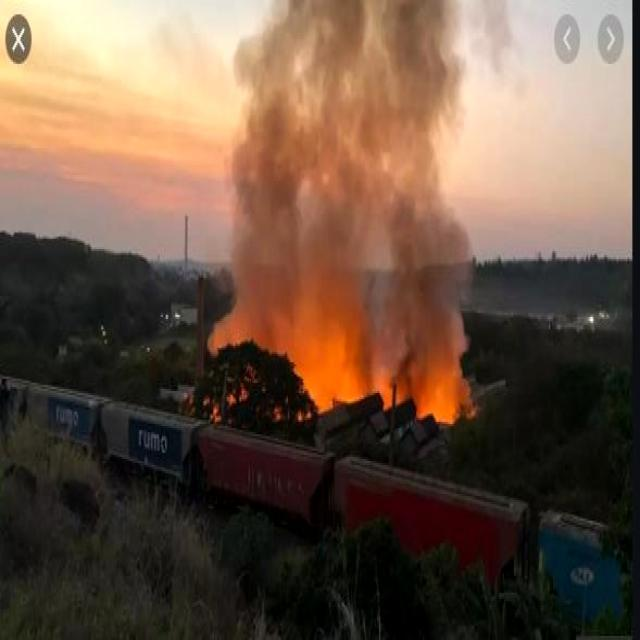Smoke: (216, 0, 473, 418)
